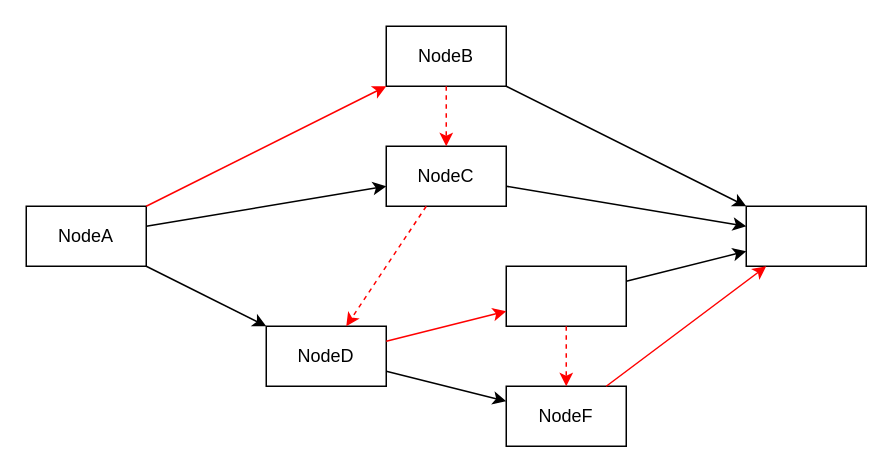
This 893x473 diagram has some shape labels left out. Each missing label, with the centre of its shape:
NodeE: pixel 565 295
NodeG: pixel 805 235
